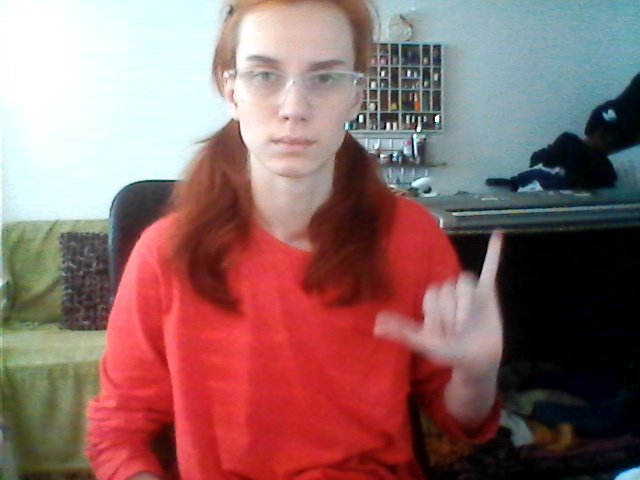kto: (367, 228, 521, 372)
